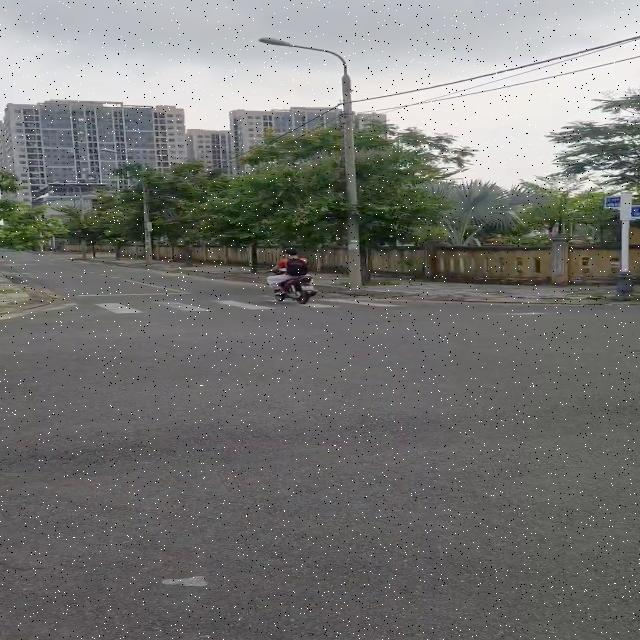no_helmet: (280, 244, 306, 261)
